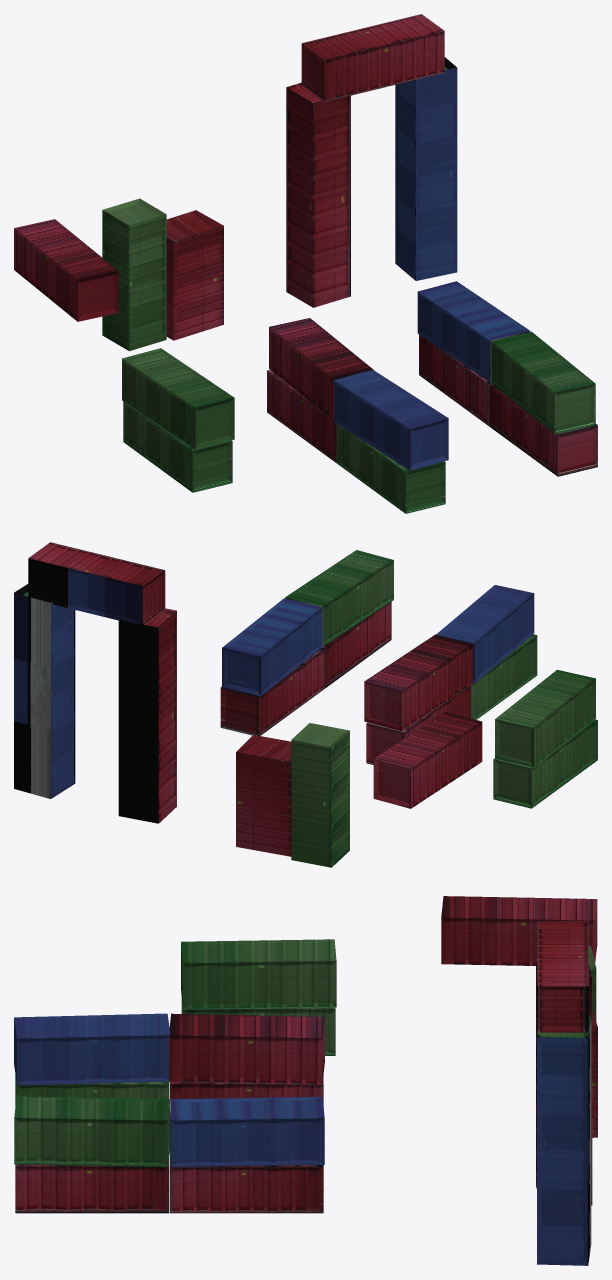
Rendered from Shipping container.glb.
The picture shows the model from 3 angles, top to bottom: view 1: azimuth 30°, elevation 25°; view 2: azimuth 150°, elevation 25°; view 3: azimuth 270°, elevation 25°; orthographic projection. The views are drawn at different scales.
Parts seen in each view (by area): view 1: Shipping Containers; view 2: Shipping Containers; view 3: Shipping Containers.
Part boxes in pixels (<box>): Shipping Containers: <box>14,14,597,513</box>; Shipping Containers: <box>14,542,597,867</box>; Shipping Containers: <box>14,896,597,1265</box>.
Size of what is drawn, in the model's own units: 55.61 by 30.31 by 59.03.
1 material, 1 textured.
